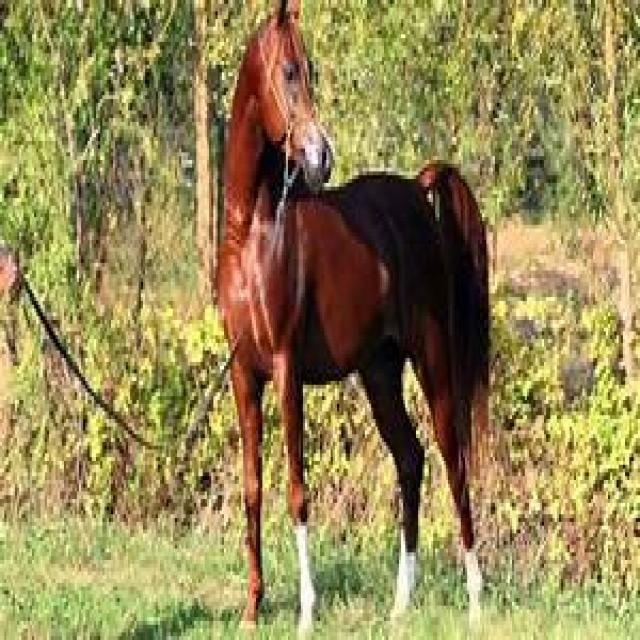horse: (215, 0, 491, 640)
